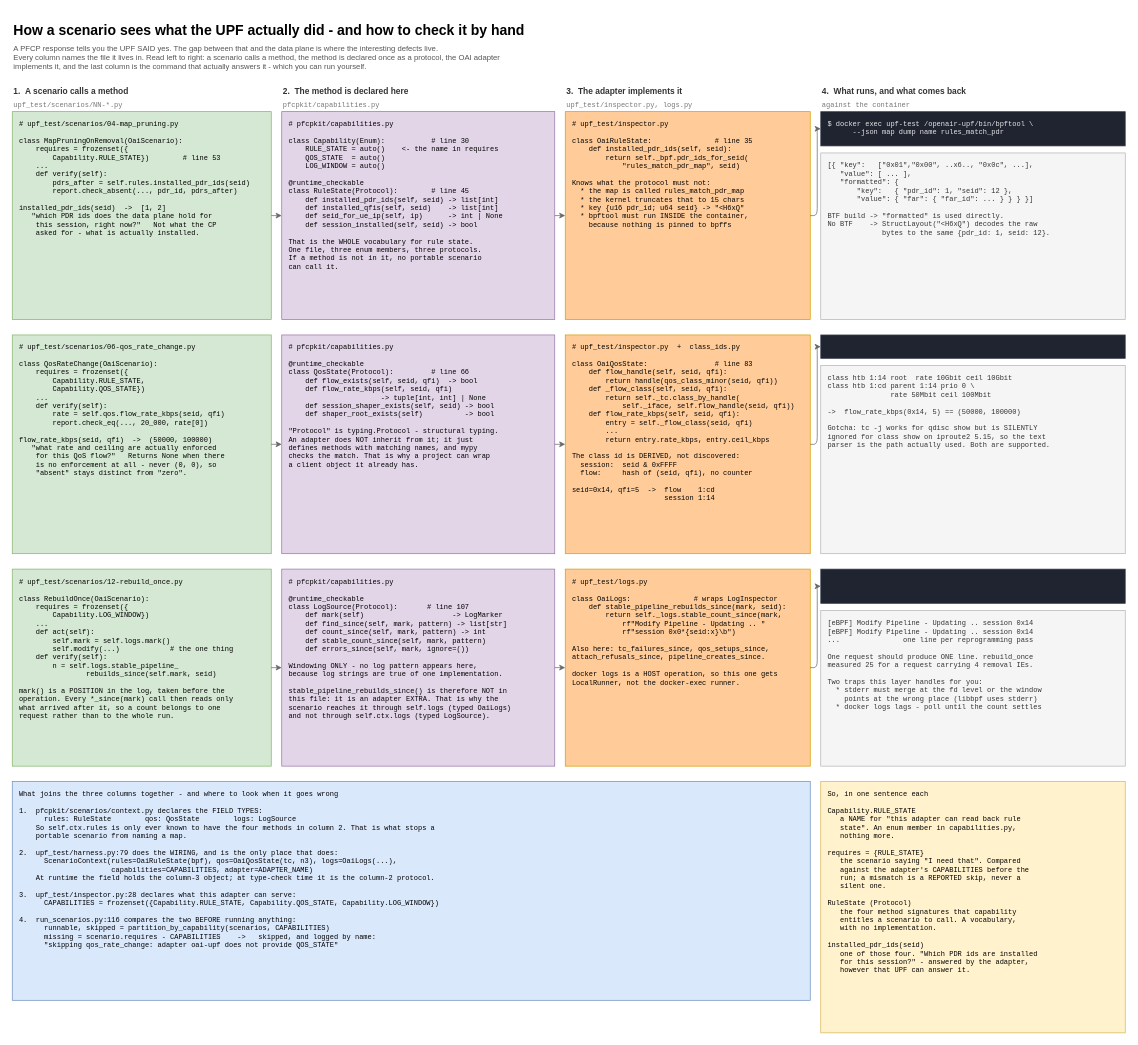
Image size: 1138x1045. Some labels were removed from this diagram. Here are the shapes that lost their labels. From the top down, the centre of each, then its label:
point (972, 346): $ docker exec upf-test tc class show dev n3
point (972, 585): $ docker logs upf-test 2>&1 | grep \ 'Modify Pipeline - Updating .* 0x14'
